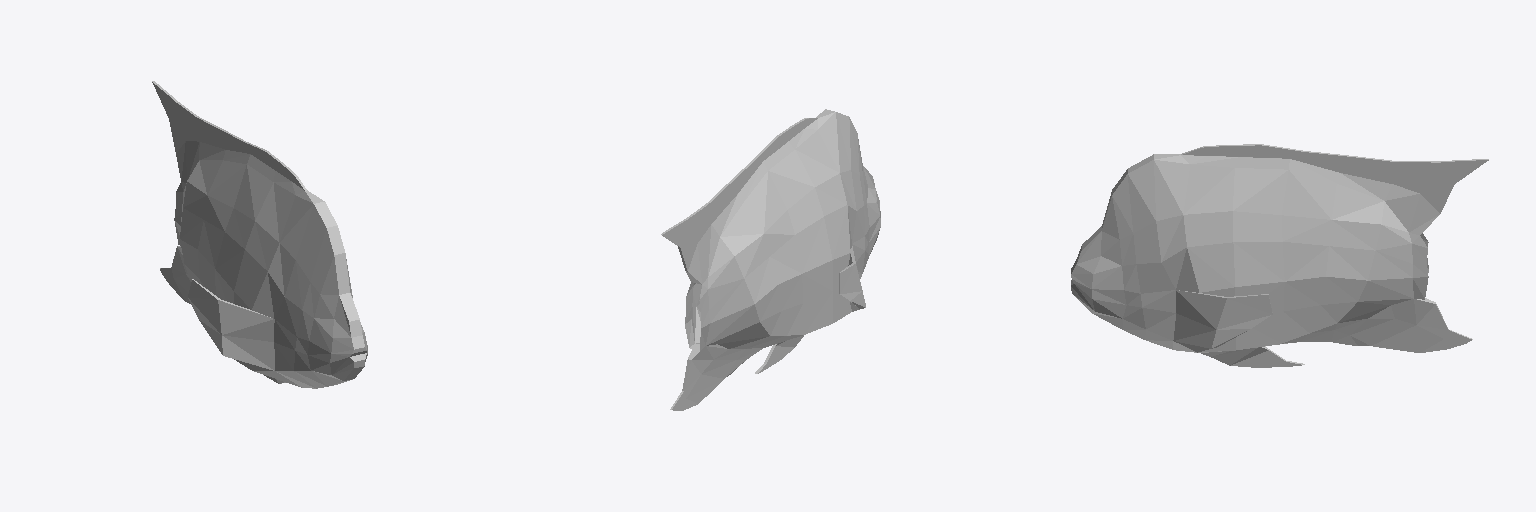
Rendered from cuerpo.obj.
3 renders of one model, left to right at view 1: azimuth 30°, elevation 25°; view 2: azimuth 150°, elevation 25°; view 3: azimuth 270°, elevation 25°, orthographic.
Visible parts, largest first — view 1: polySurface3 polySurface2 TropicalFish09; view 2: polySurface3 polySurface2 TropicalFish09; view 3: polySurface3 polySurface2 TropicalFish09.
Part boxes in pixels (bbox=[...]): polySurface3 polySurface2 TropicalFish09: bbox=[152, 81, 367, 388]; polySurface3 polySurface2 TropicalFish09: bbox=[661, 109, 880, 410]; polySurface3 polySurface2 TropicalFish09: bbox=[1071, 144, 1488, 367].
Size of the model in its own units: 1.52 by 2.3 by 3.91.